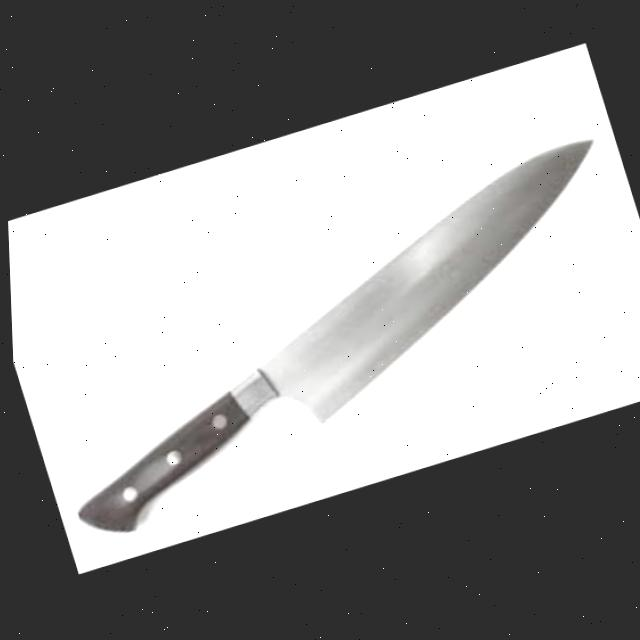Knife: (6, 135, 640, 547)
